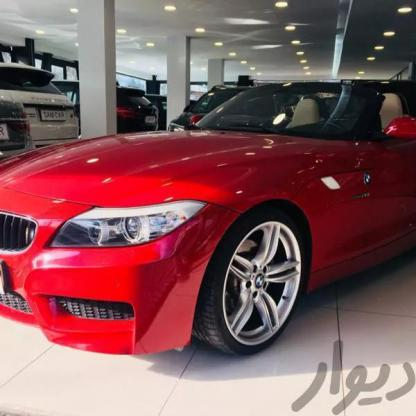Car: (0, 70, 416, 390), (171, 75, 322, 145), (0, 47, 94, 151), (51, 66, 161, 136)
